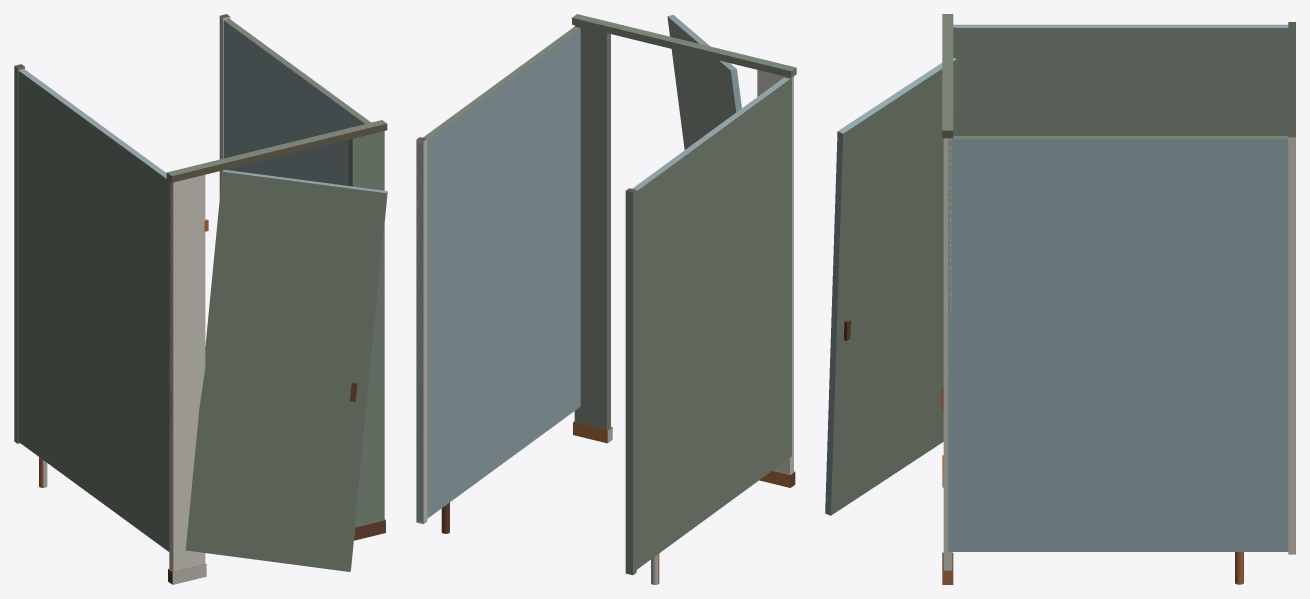
File: toilet_room_v2.fbx
The picture shows the model from 3 angles, left to right: view 1: azimuth 30°, elevation 25°; view 2: azimuth 150°, elevation 25°; view 3: azimuth 270°, elevation 25°; orthographic projection. The views are drawn at different scales.
Parts seen in each view (by area): view 1: 06_CubicleStall_Damaged_Mesh; view 2: 06_CubicleStall_Damaged_Mesh; view 3: 06_CubicleStall_Damaged_Mesh.
Boxes of the visible parts, x1,y1,x2,y2 form: 06_CubicleStall_Damaged_Mesh: (14,14,387,584); 06_CubicleStall_Damaged_Mesh: (416,14,796,584); 06_CubicleStall_Damaged_Mesh: (825,14,1295,584).
Bounding box in the file's own units: 108 × 196 × 184.
